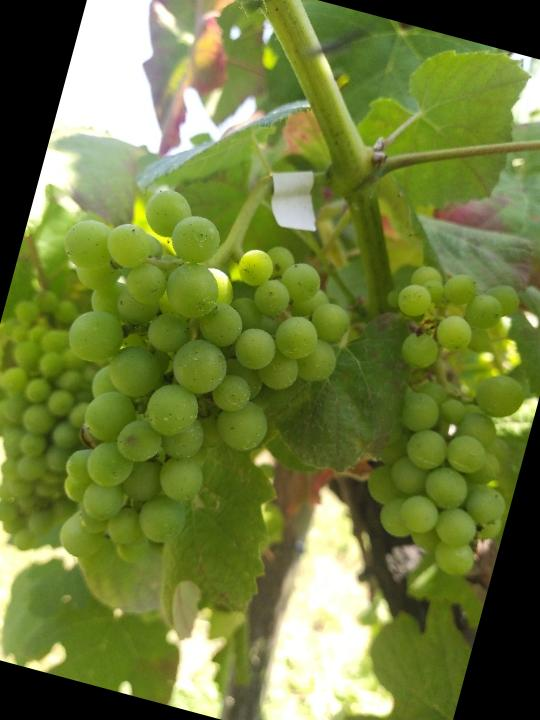grape: (0, 163, 376, 616)
